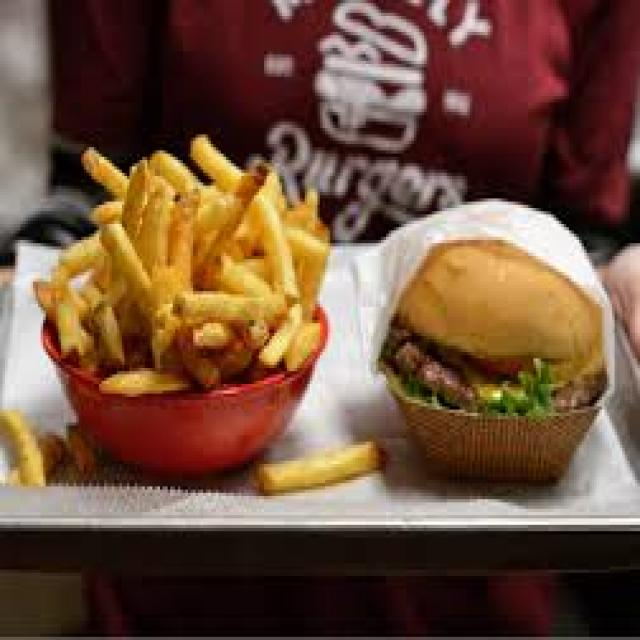Burger: (376, 218, 625, 499)
French Fries: (26, 116, 341, 480)
